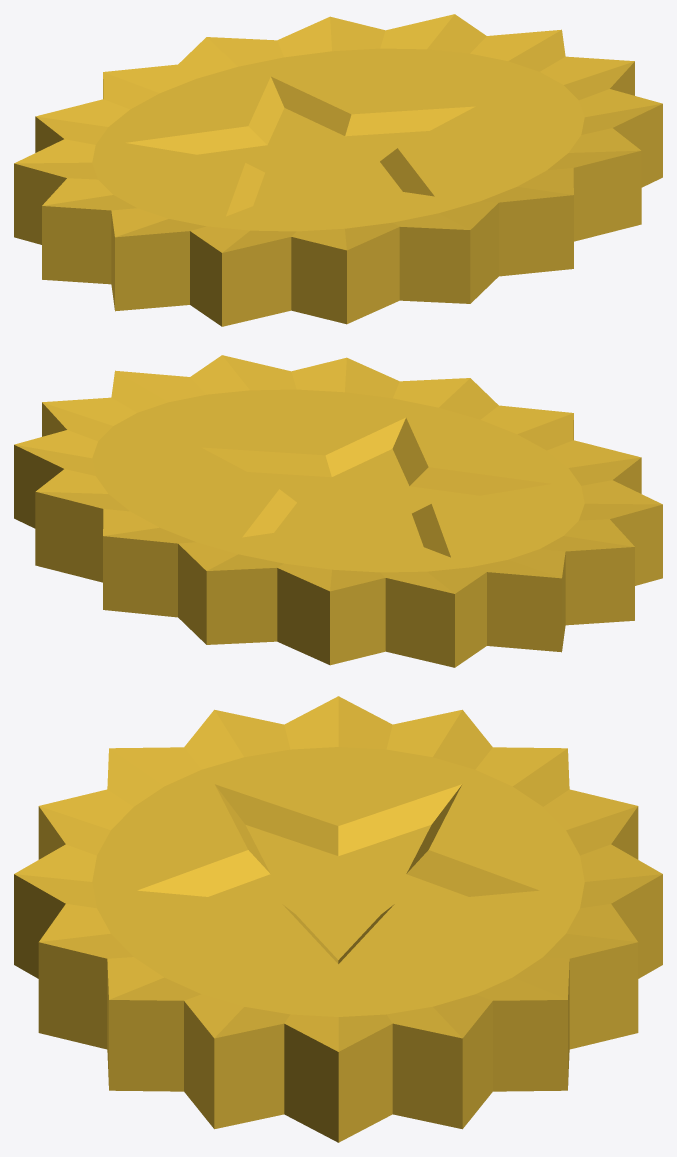
Rendered from Coin.fbx.
The picture shows the model from 3 angles, top to bottom: view 1: azimuth 30°, elevation 25°; view 2: azimuth 150°, elevation 25°; view 3: azimuth 270°, elevation 25°; orthographic projection. The views are drawn at different scales.
Visible parts, largest first — view 1: Circle; view 2: Circle; view 3: Circle.
Boxes of the visible parts, box(x1,y1,x2,y2) form: Circle: box(14, 14, 662, 326); Circle: box(14, 355, 662, 667); Circle: box(14, 696, 662, 1142).
Bounding box in the file's own units: 1358 × 162 × 1046.
